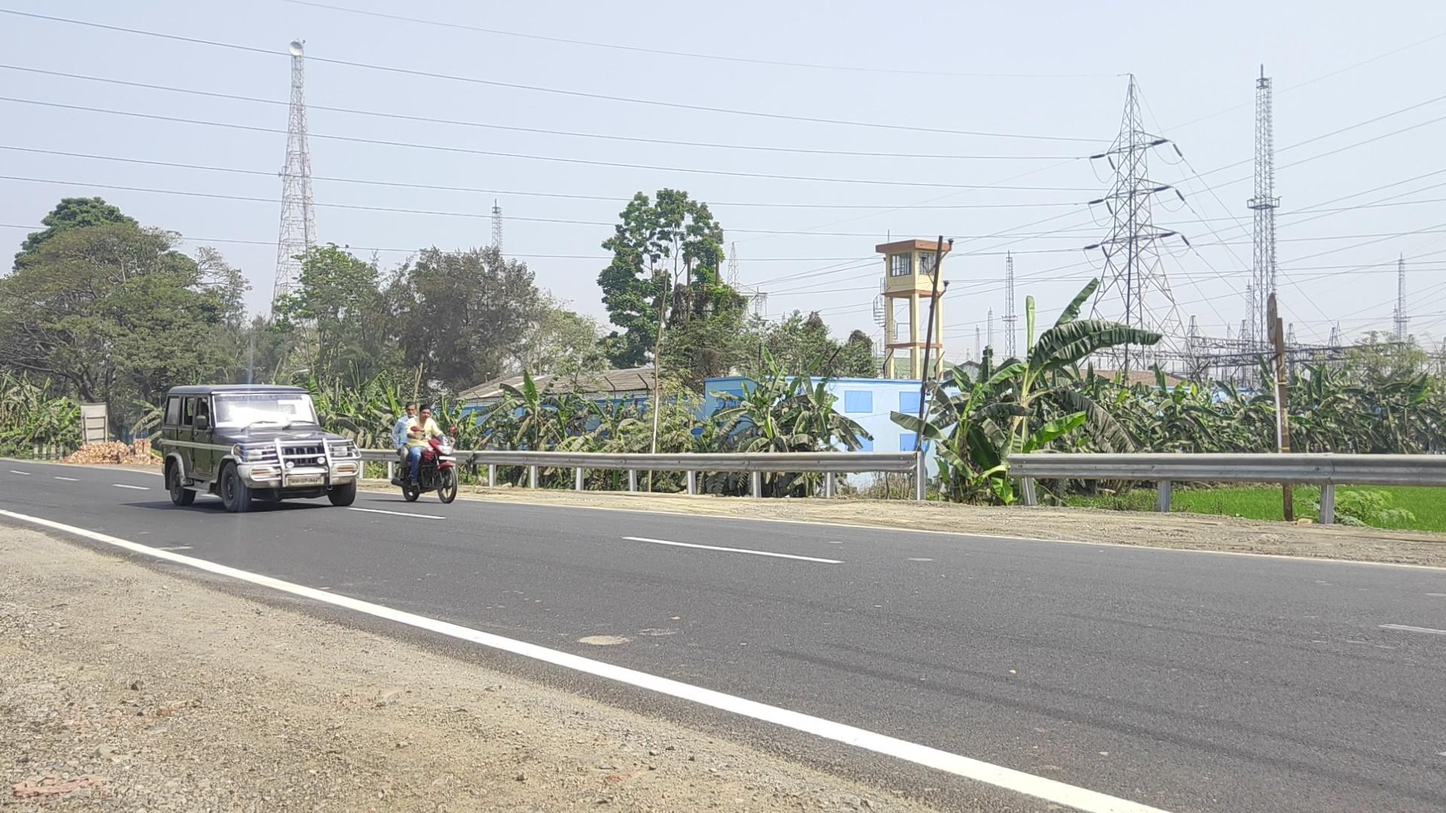bike: (391, 401, 458, 504)
car: (160, 383, 362, 513)
